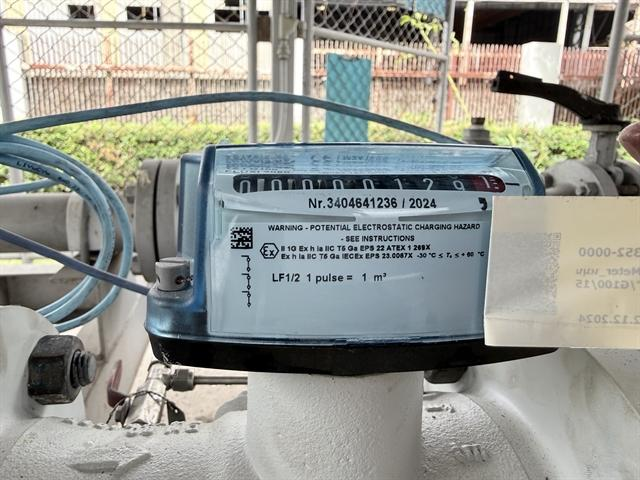analog_dial: (230, 170, 520, 200)
